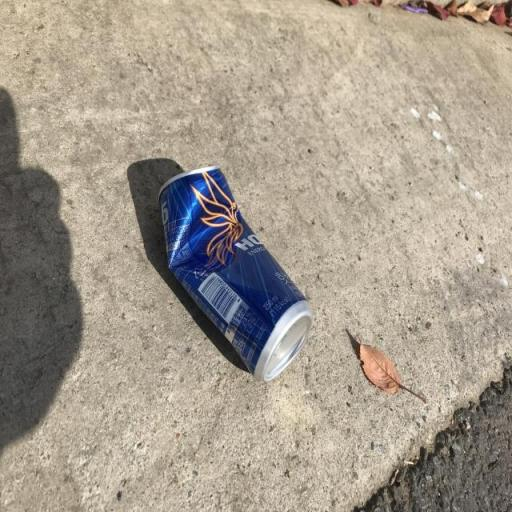metal: (140, 140, 318, 390)
